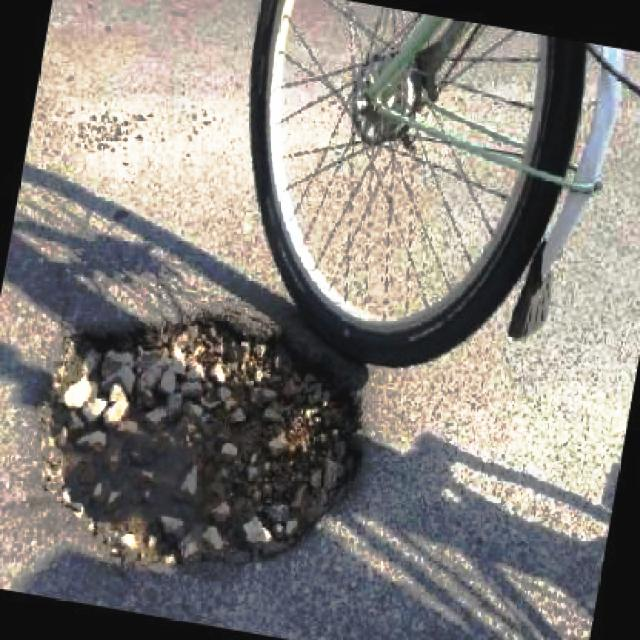pothole: (39, 308, 358, 575)
